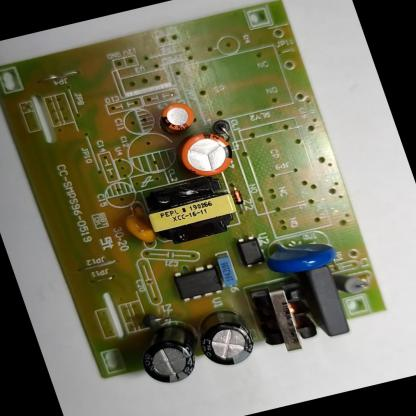Cap1: (174, 126, 238, 181)
Cap2: (154, 99, 200, 134)
Cap3: (189, 305, 262, 372)
Cap4: (131, 316, 207, 387)
MOSFET: (172, 262, 226, 303)
Mov: (261, 231, 342, 281)
Resistor: (332, 268, 372, 299)
Transformer: (138, 172, 244, 249), (244, 276, 324, 360)
